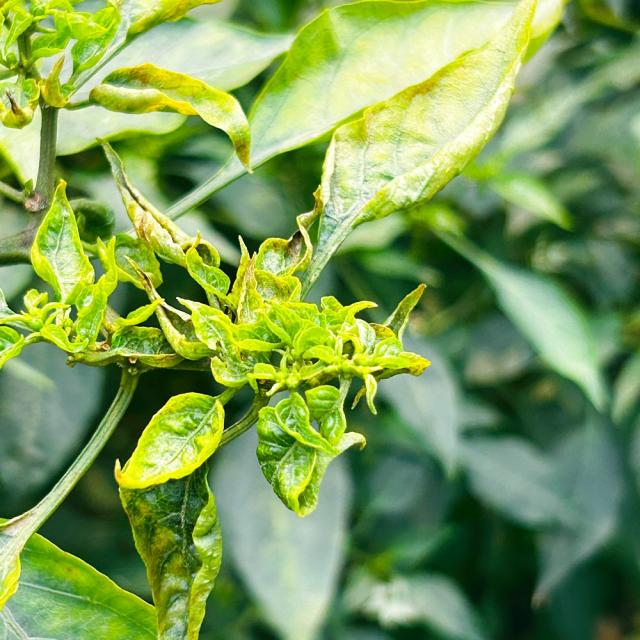Chilli_Leaf_Curl: (1, 0, 566, 638), (114, 222, 430, 518), (245, 0, 547, 300), (114, 455, 224, 639), (88, 61, 254, 175), (0, 530, 159, 639), (254, 381, 366, 518), (115, 390, 225, 491), (28, 178, 96, 308)
